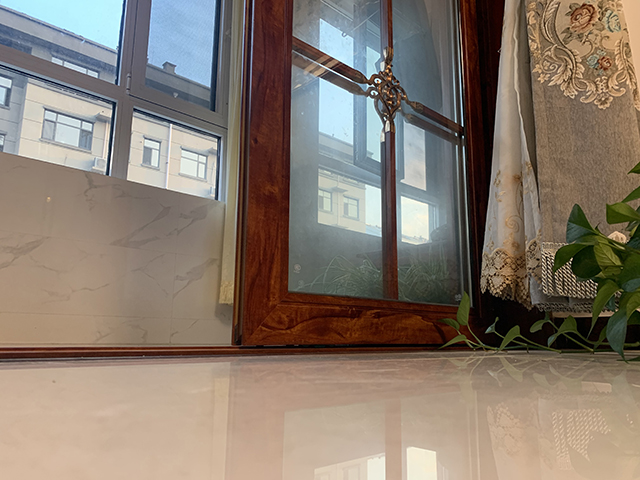curtain: (478, 1, 640, 320)
